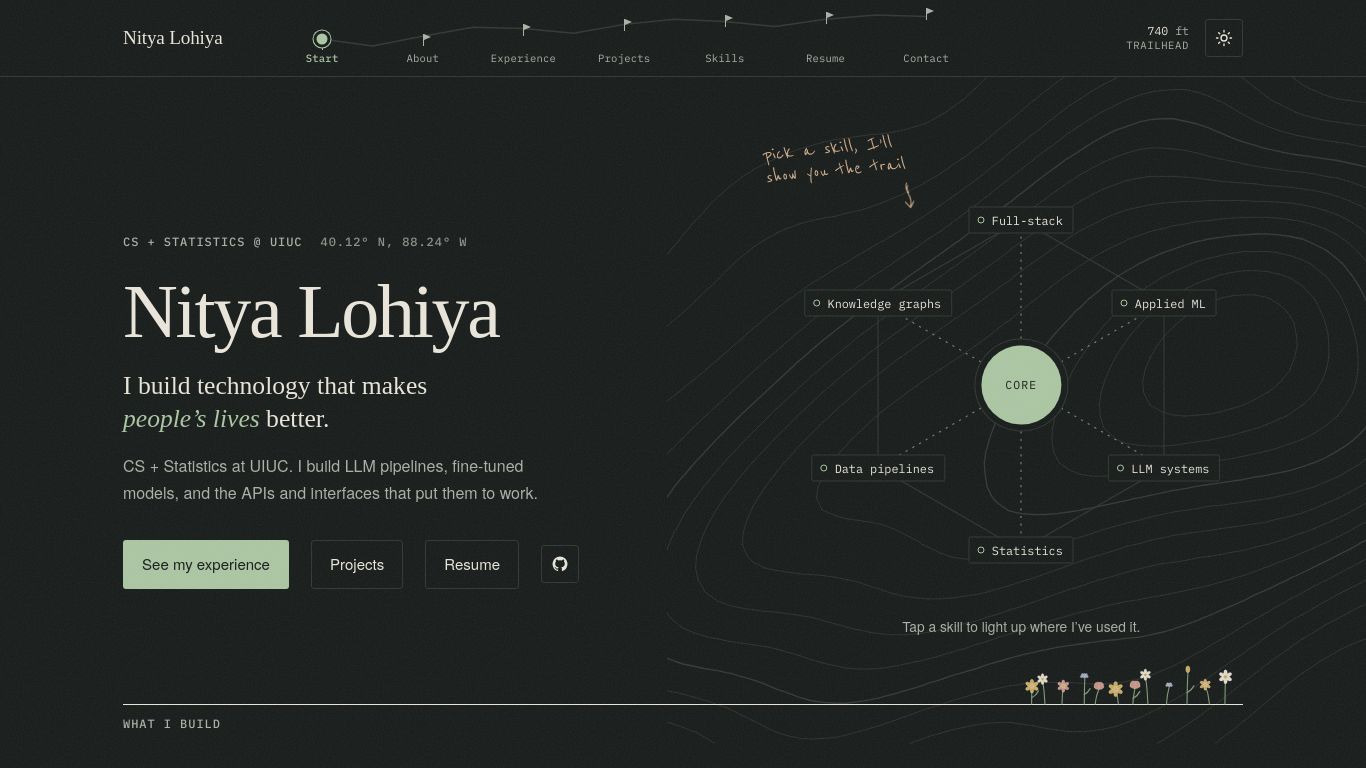
it: App › lights up experience from the hero graph and clears from the floating pill
Click the button "Knowledge graphs" at (878, 302), box [804, 289, 952, 316]
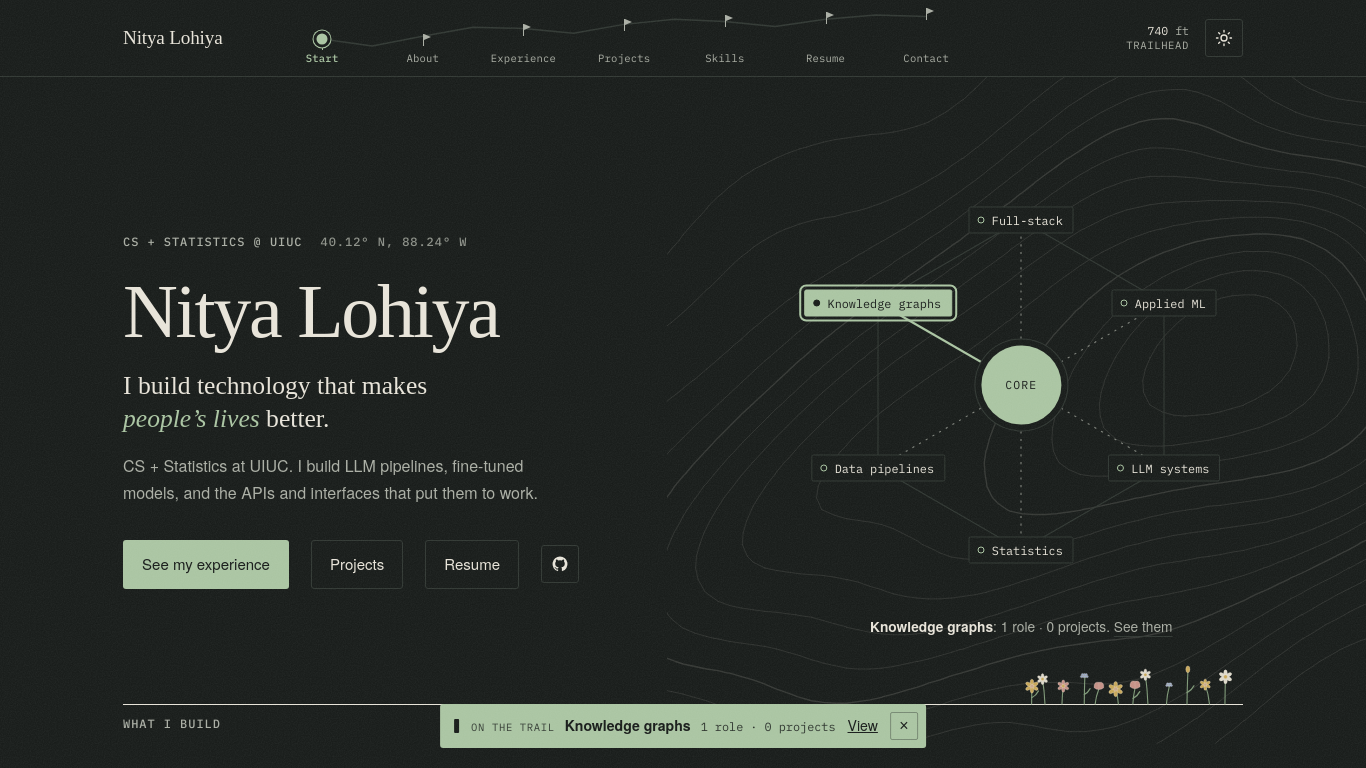
Now the element with test id "lens-pill" shows "Knowledge graphs", box [565, 715, 691, 735]
Click the button named "Clear skill lens" at (904, 726), box [890, 712, 918, 740]
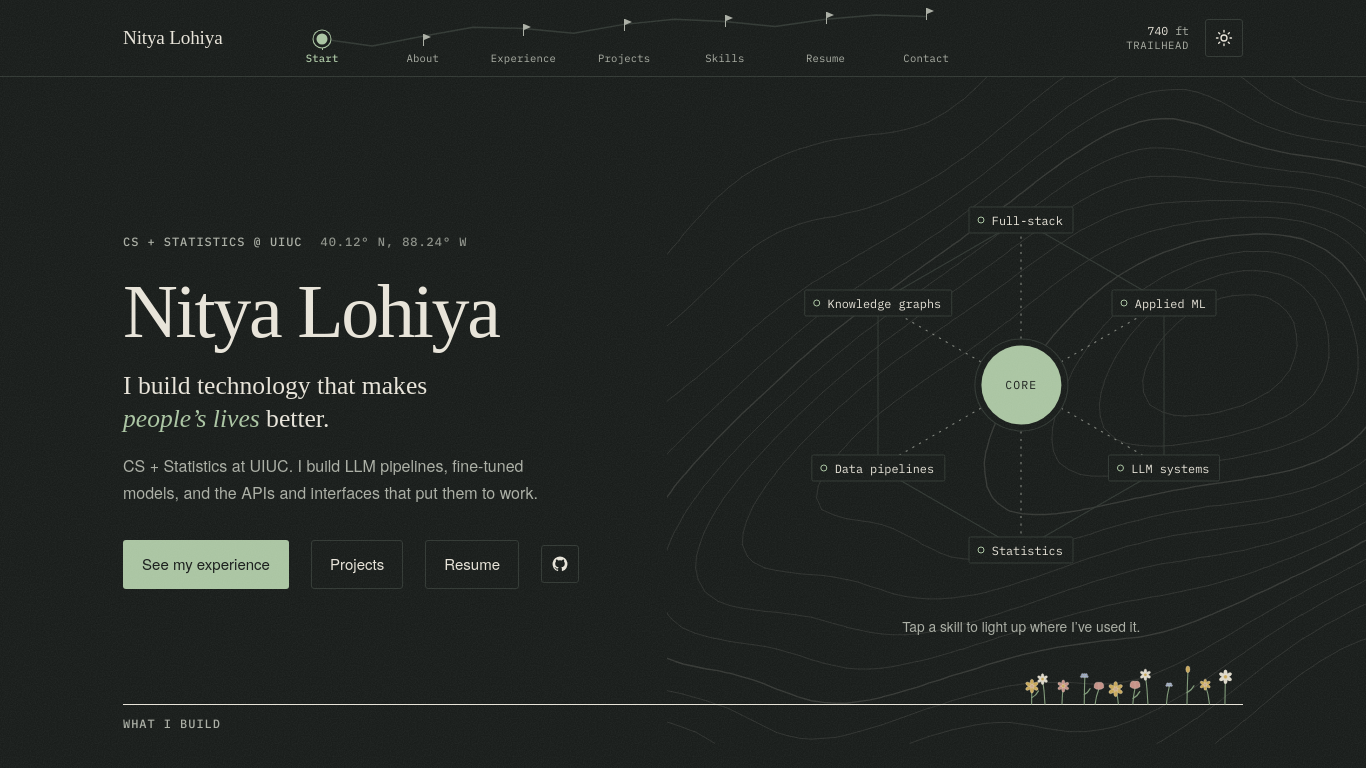
Now the element with test id "lens-pill" is gone
